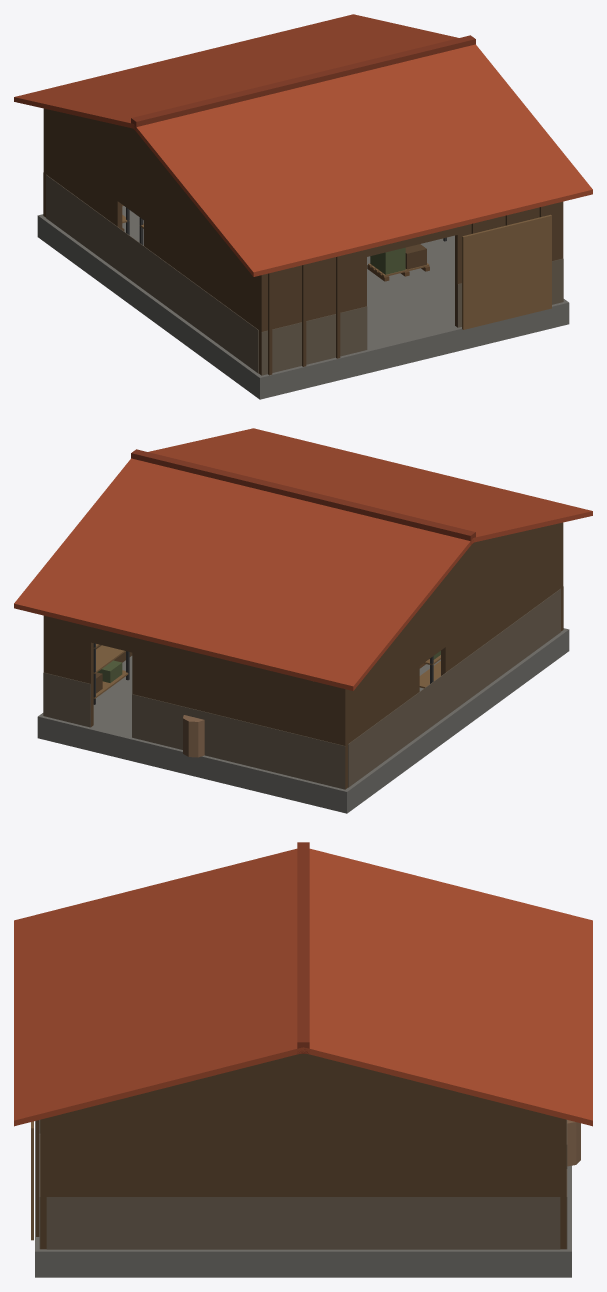
Rendered from paiol_b.glb.
3 renders of one model, top to bottom at view 1: azimuth 30°, elevation 25°; view 2: azimuth 150°, elevation 25°; view 3: azimuth 270°, elevation 25°, orthographic. The views are drawn at different scales.
Visible parts, largest first — view 1: paiol_b; view 2: paiol_b; view 3: paiol_b.
Part boxes in pixels (x1,y1,x2,y2): paiol_b: (14, 14, 592, 399); paiol_b: (14, 428, 592, 813); paiol_b: (14, 842, 592, 1277).
Bounding box in the file's own units: 9 × 5.12 × 11.
